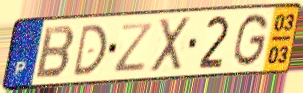2: (197, 14, 230, 70)
B: (33, 25, 77, 80)
D: (70, 22, 109, 79)
G: (231, 11, 270, 69)
X: (149, 15, 192, 75)
Z: (113, 21, 157, 74)
